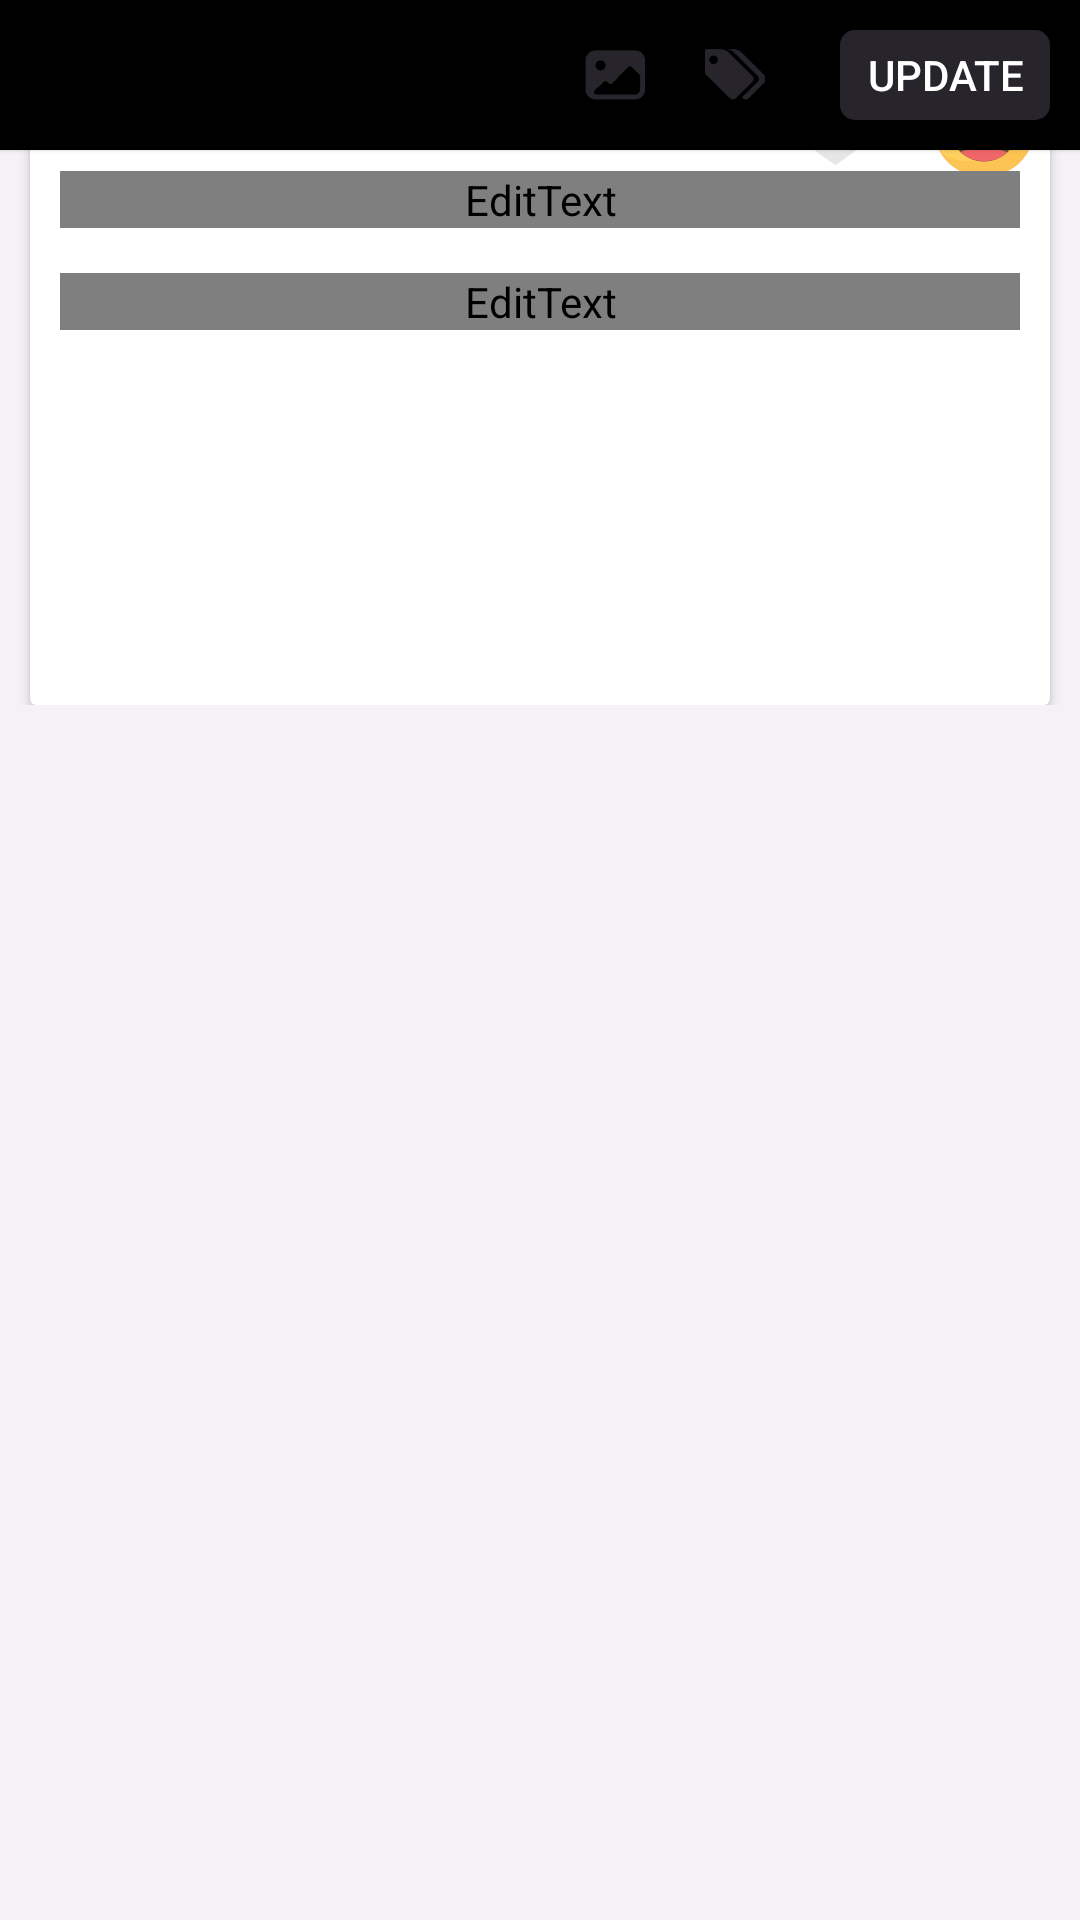

Locate icon controls on the screen. Image size 1080×1920, boxes as BBox(x1, y1, x2, y2).
tag: BBox(705, 49, 765, 99)
